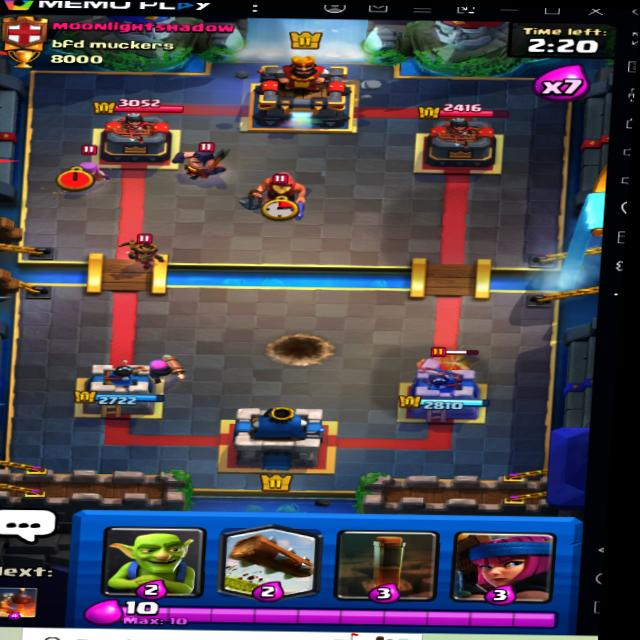Executioner: (165, 129, 241, 187)
Fisherman: (234, 170, 320, 214)
Littleprince: (117, 226, 172, 269)
Lumberjack: (416, 340, 481, 383)
Motherwitch: (47, 138, 120, 195)
